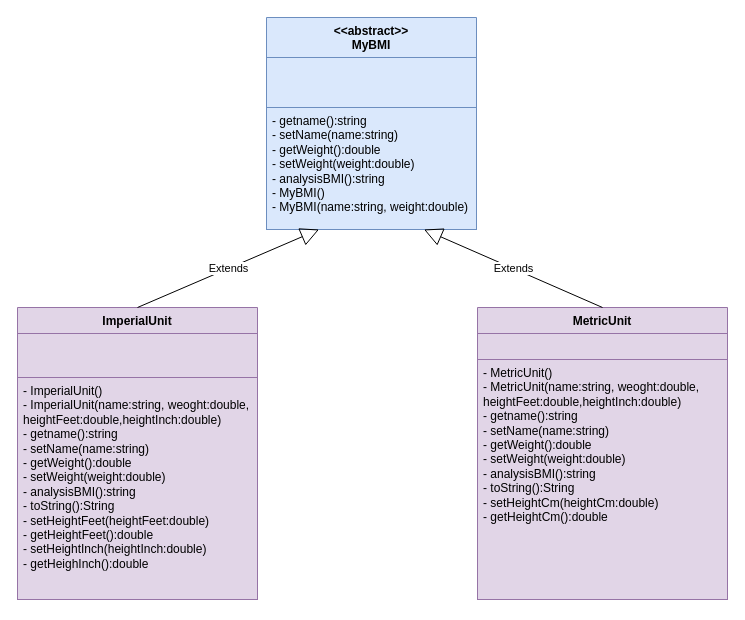
The diagram is 745 pixels wide and 620 high, and some of its shapes have lost their labels. Here are the shapes that lost their labels. From the top down, the box of each, then its label:
(266, 56, 476, 108): - name:string - weight: double
(16, 332, 258, 378): + heightFeet:double + heightInch:double
(476, 332, 728, 360): + heightCm:double
